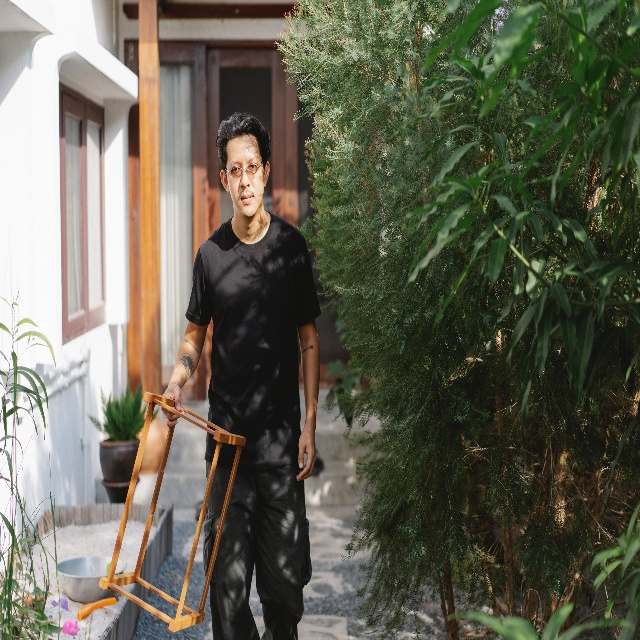Gafas: (225, 160, 263, 179)
Sin_guantes: (296, 424, 317, 481), (160, 381, 185, 427)
